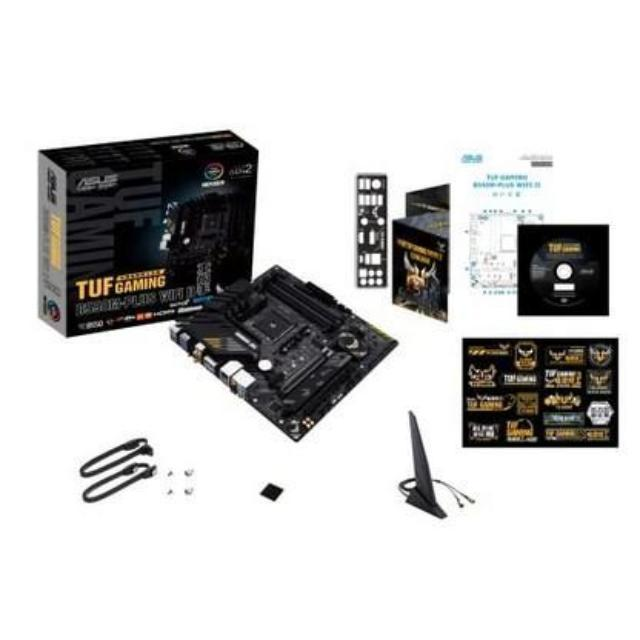Mainboard: (178, 262, 407, 442)
